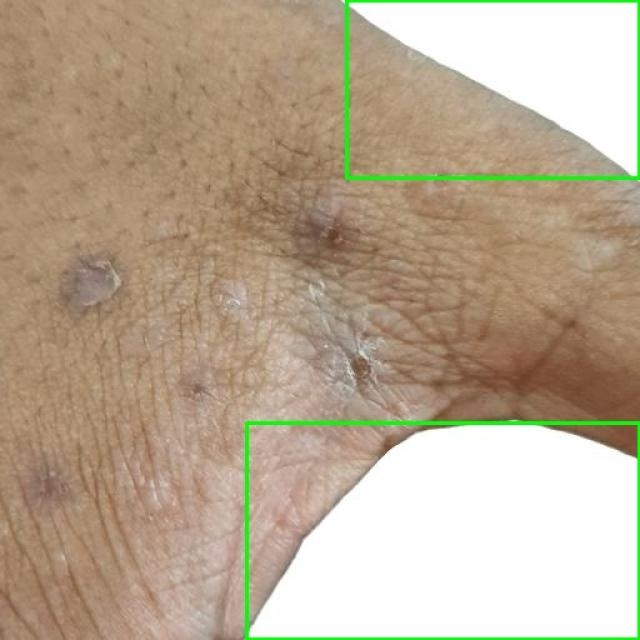Scabies: (246, 422, 639, 639), (346, 0, 639, 178)
